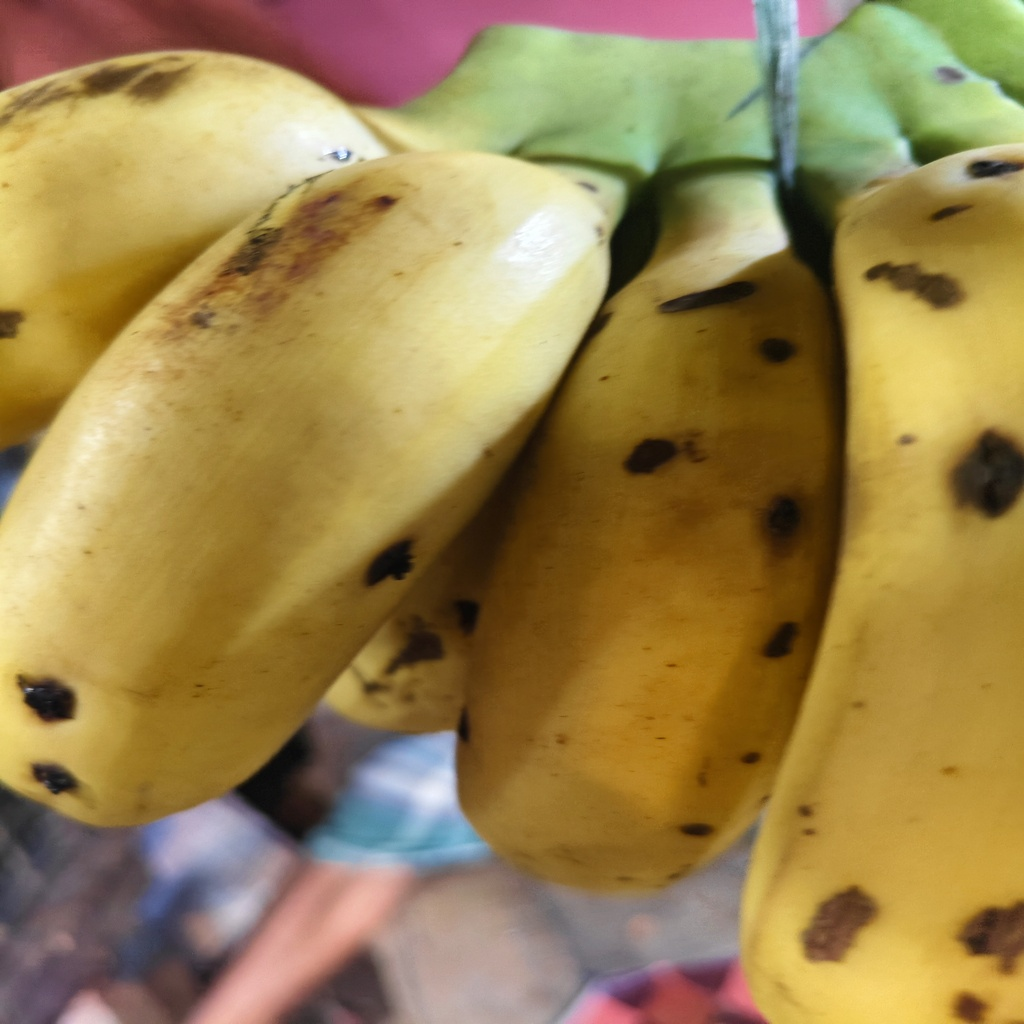unhealthy: (4, 150, 609, 827), (463, 263, 846, 874)
